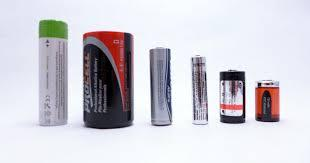battery: (78, 26, 137, 132), (32, 15, 72, 136), (142, 43, 178, 130), (181, 48, 213, 126), (213, 63, 250, 129), (252, 72, 283, 128)
